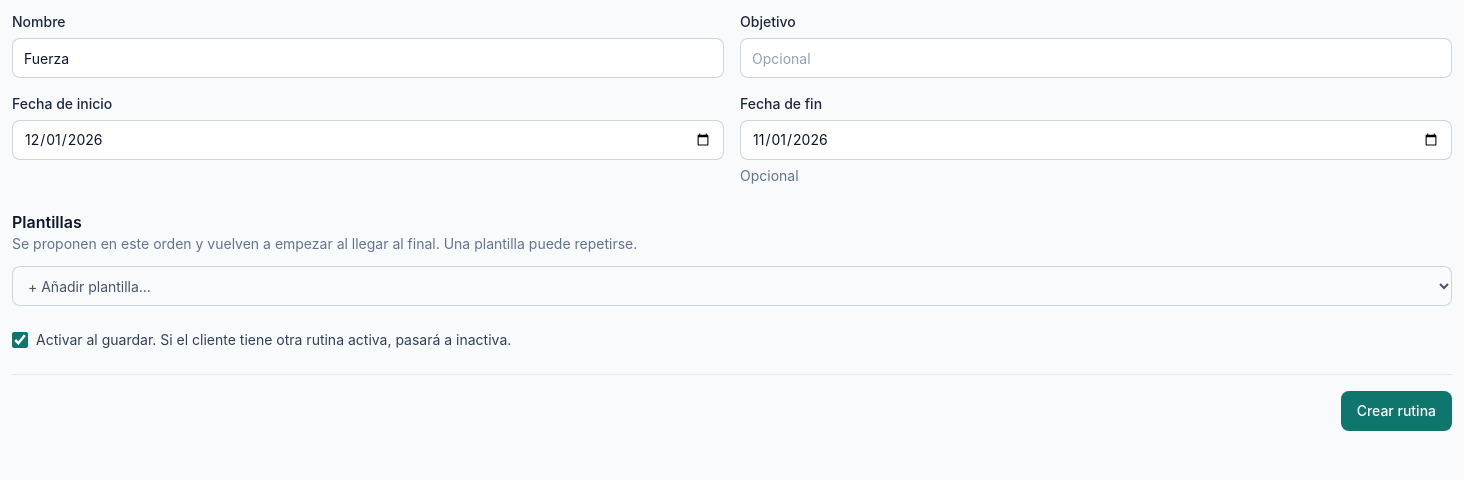
it: RoutineForm › valida que haya plantillas y que la fecha de fin no sea anterior a la de inicio
The image size is (1464, 480).
Click the button "Crear rutina".
click(1396, 411)  # box [1341,391,1452,431]
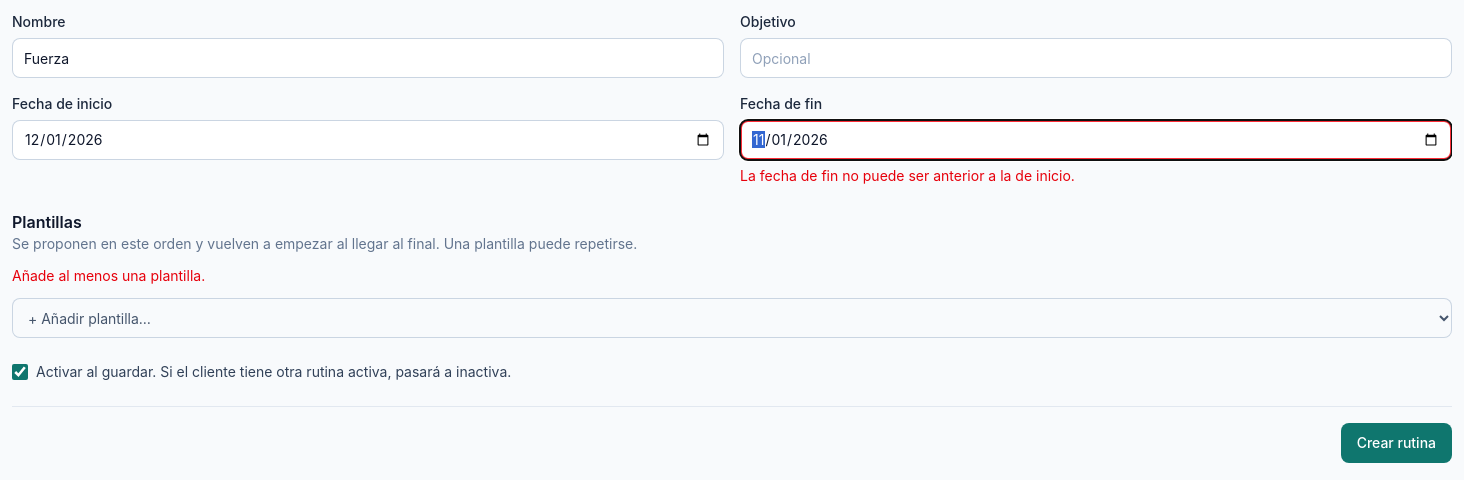
Now the text "Añade al menos una plantilla." is shown, box [12,267,205,284]
Now the text "La fecha de fin no puede ser anterior a la de inicio." is shown, box [740,167,1075,184]
